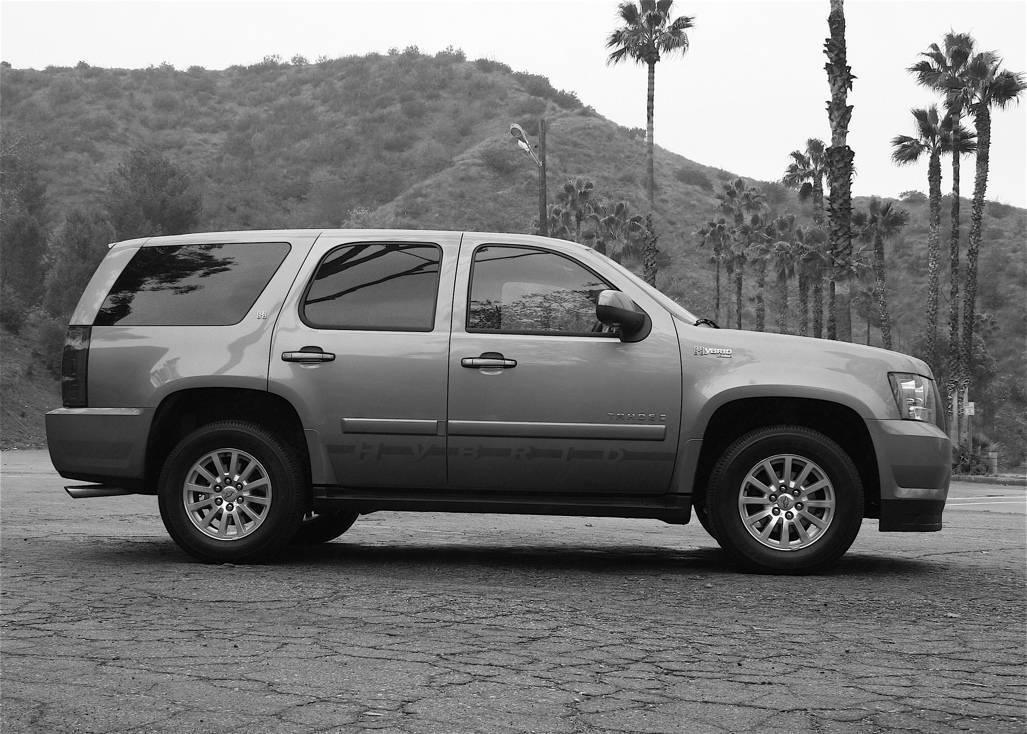car: (41, 225, 957, 579)
